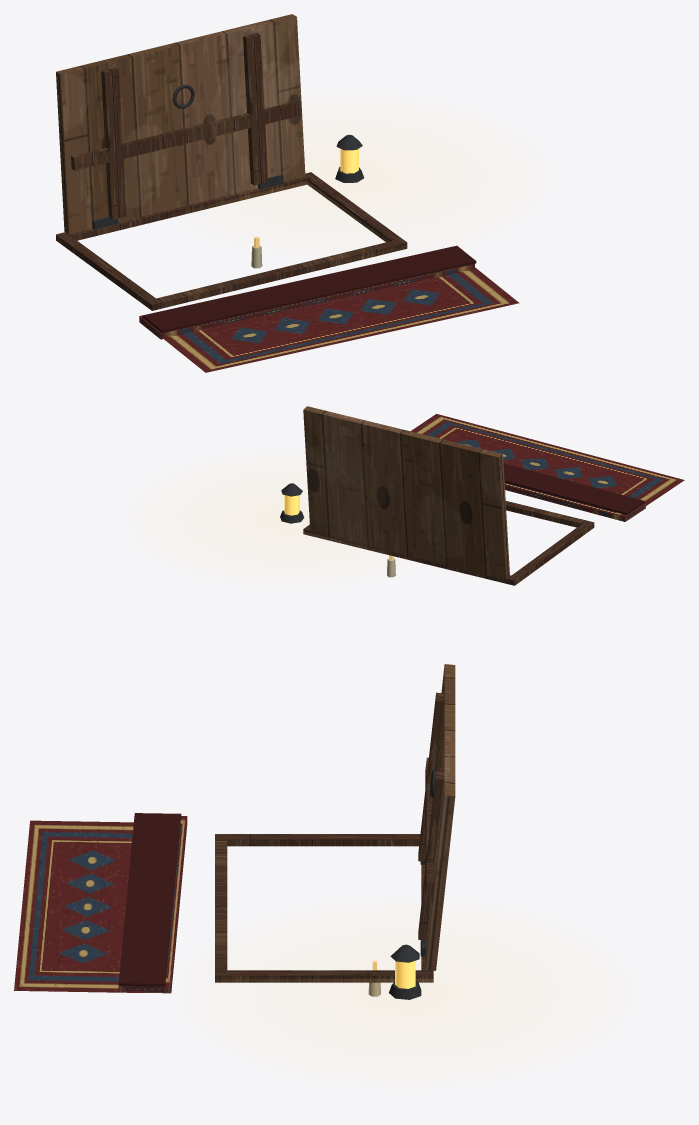
Rendered from delegacia_17h_alcapao.glb.
The picture shows the model from 3 angles, top to bottom: view 1: azimuth 30°, elevation 25°; view 2: azimuth 150°, elevation 25°; view 3: azimuth 270°, elevation 25°; orthographic projection. The views are drawn at different scales.
Size of the model in its own units: 4.42 by 1.7 by 4.33.
Materials: 9 (4 with a texture image).
